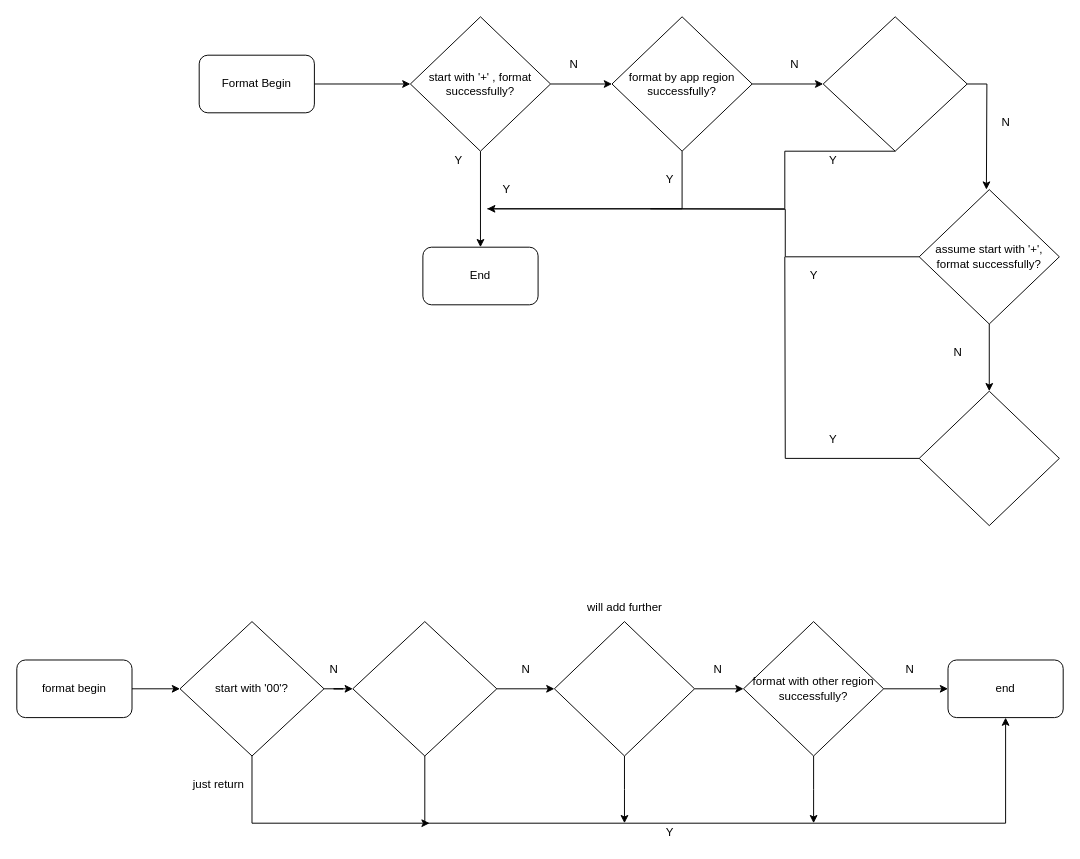
Image size: 1080x859. Some labels were removed from this diagram. The shapes that lost their labels are listed below. From the top down, each one's box as (x1, y1, x2, y2) in pixels, then its label:
(822, 16, 967, 151): start with 0 ,format successfully ?
(918, 390, 1059, 526): format by SIM regions successfully?
(352, 621, 497, 756): format with app region successfully?
(553, 621, 695, 756): format with SIM card region successfully?
